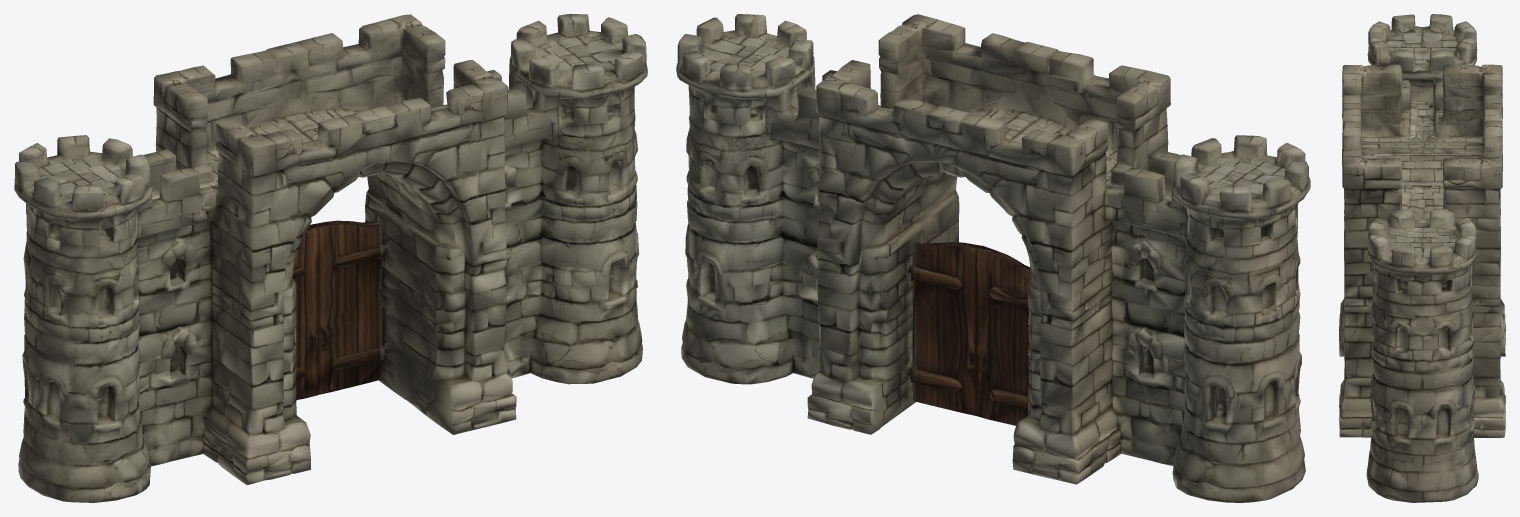
Rendered from gatehouse.glb.
The picture shows the model from 3 angles, left to right: view 1: azimuth 30°, elevation 25°; view 2: azimuth 150°, elevation 25°; view 3: azimuth 270°, elevation 25°; orthographic projection. The views are drawn at different scales.
Parts seen in each view (by area): view 1: mesh_node; view 2: mesh_node; view 3: mesh_node.
Boxes of the visible parts, bbox=[...] form: mesh_node: bbox=[14, 14, 647, 502]; mesh_node: bbox=[676, 14, 1310, 502]; mesh_node: bbox=[1339, 14, 1505, 502].
Size of the model in its own units: 8 by 4.2 by 2.35.
Materials: 1 (1 with a texture image).
